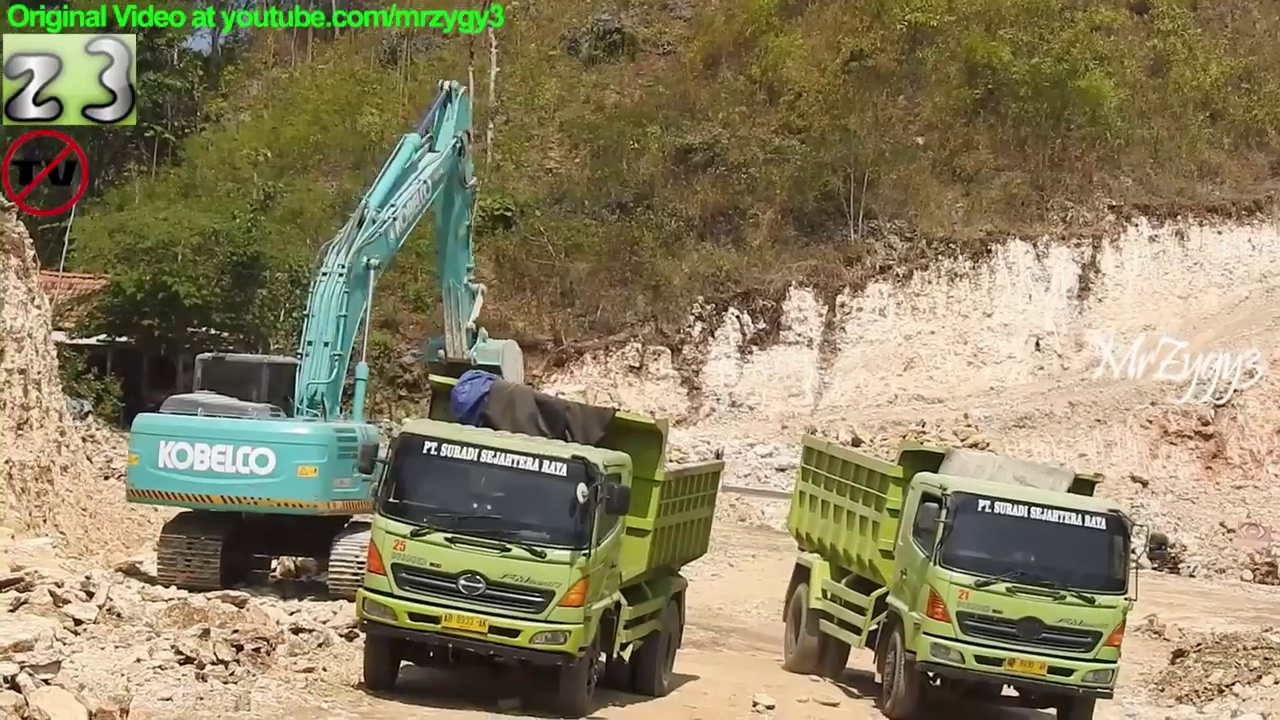excavator: (119, 74, 536, 612)
truck: (350, 359, 728, 720), (775, 427, 1179, 720)
